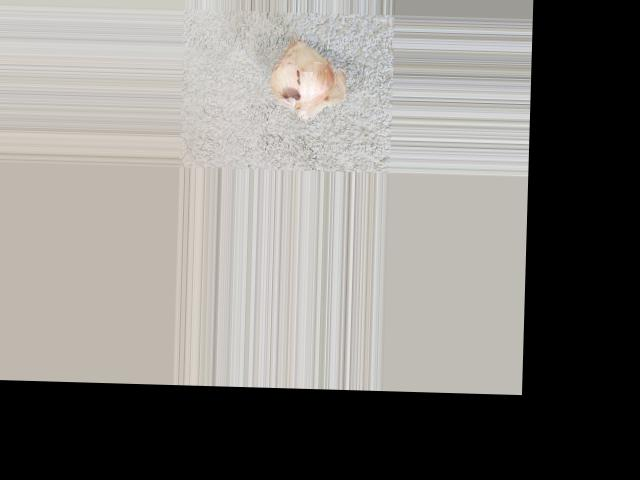onion: (267, 42, 334, 110)
